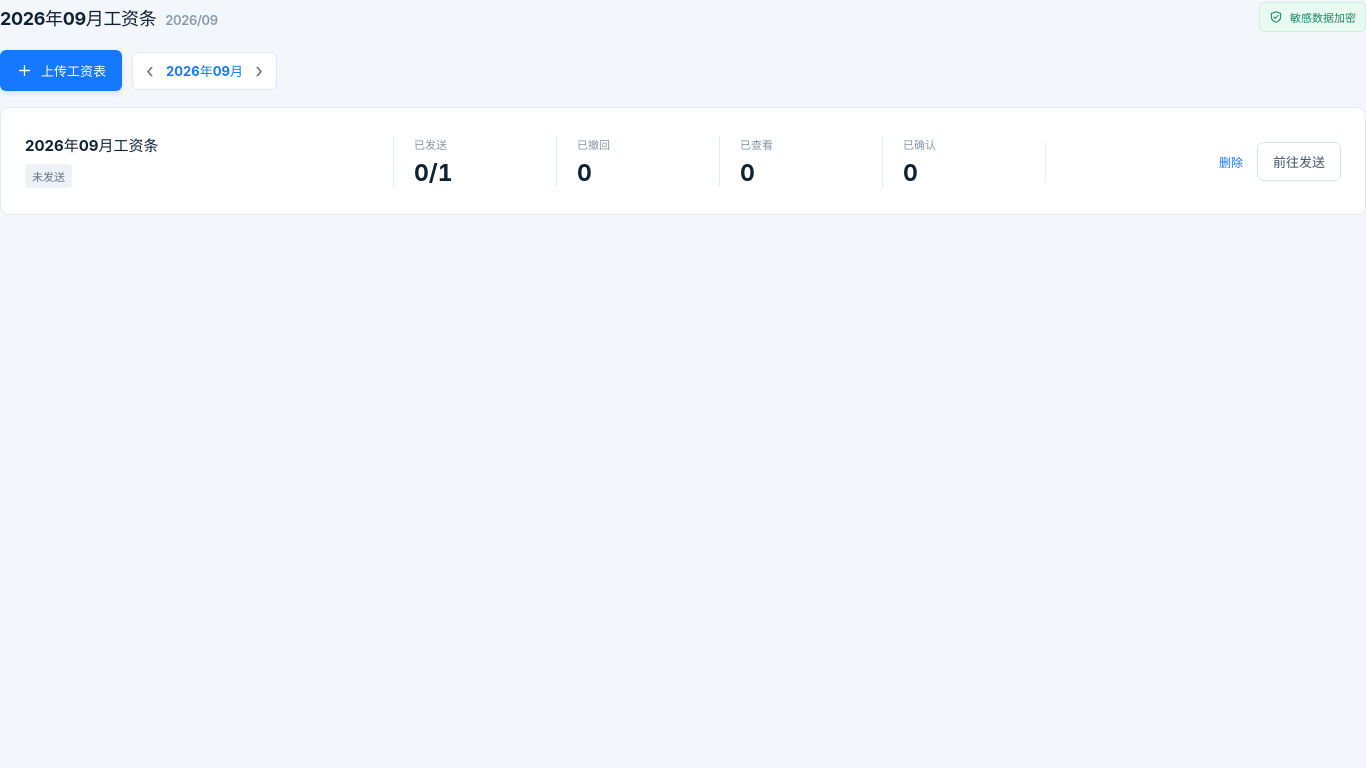
Test: salary management › loads only summaries until a batch is opened, then opens the import wizard
Expected: the text "0/1" is shown, [414,158,453,186]
Click the button "前往发送" at (1299, 161), box [1257,142,1341,180]
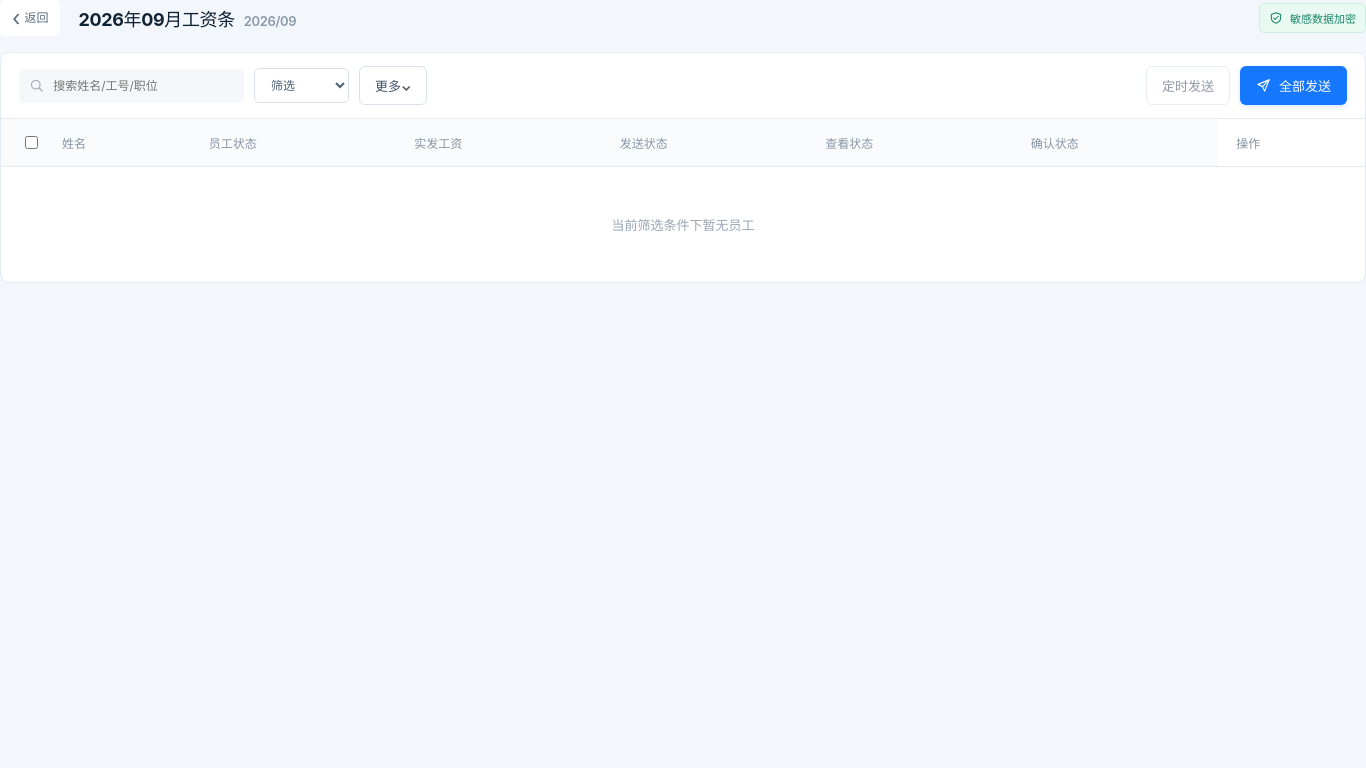
Click the button "‹ 返回" at (30, 18), box [0,0,60,36]
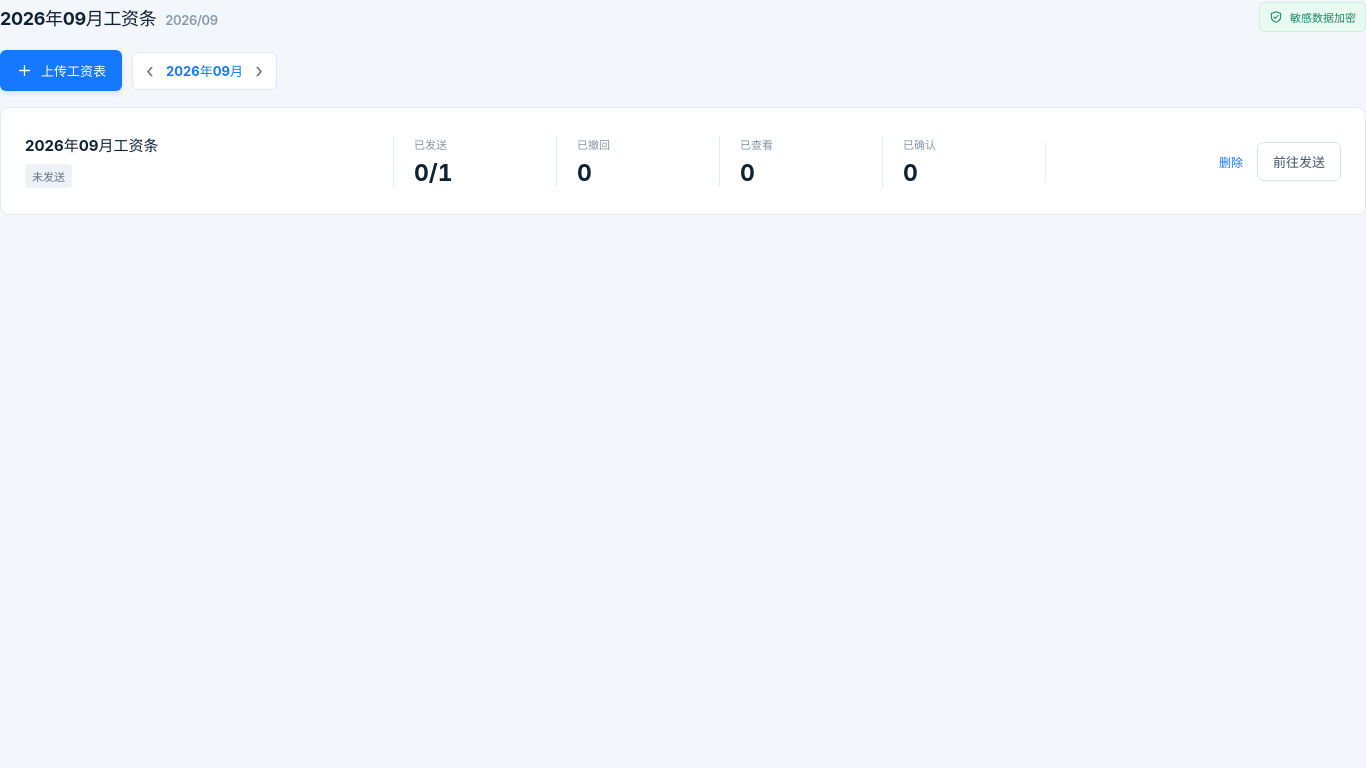
Click the button "上传工资表" at (61, 70), box [0,50,122,91]
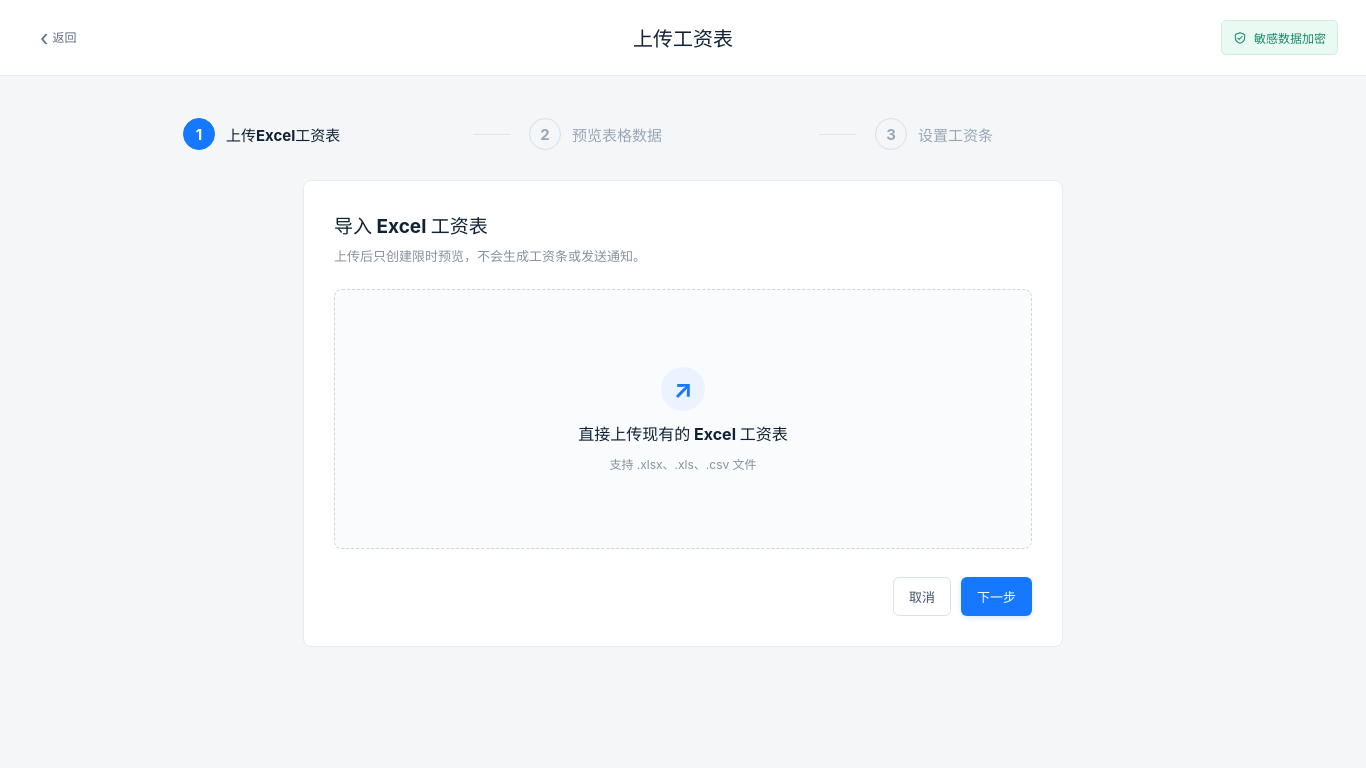
Now the heading "上传工资表" is shown, box [633,23,733,52]
